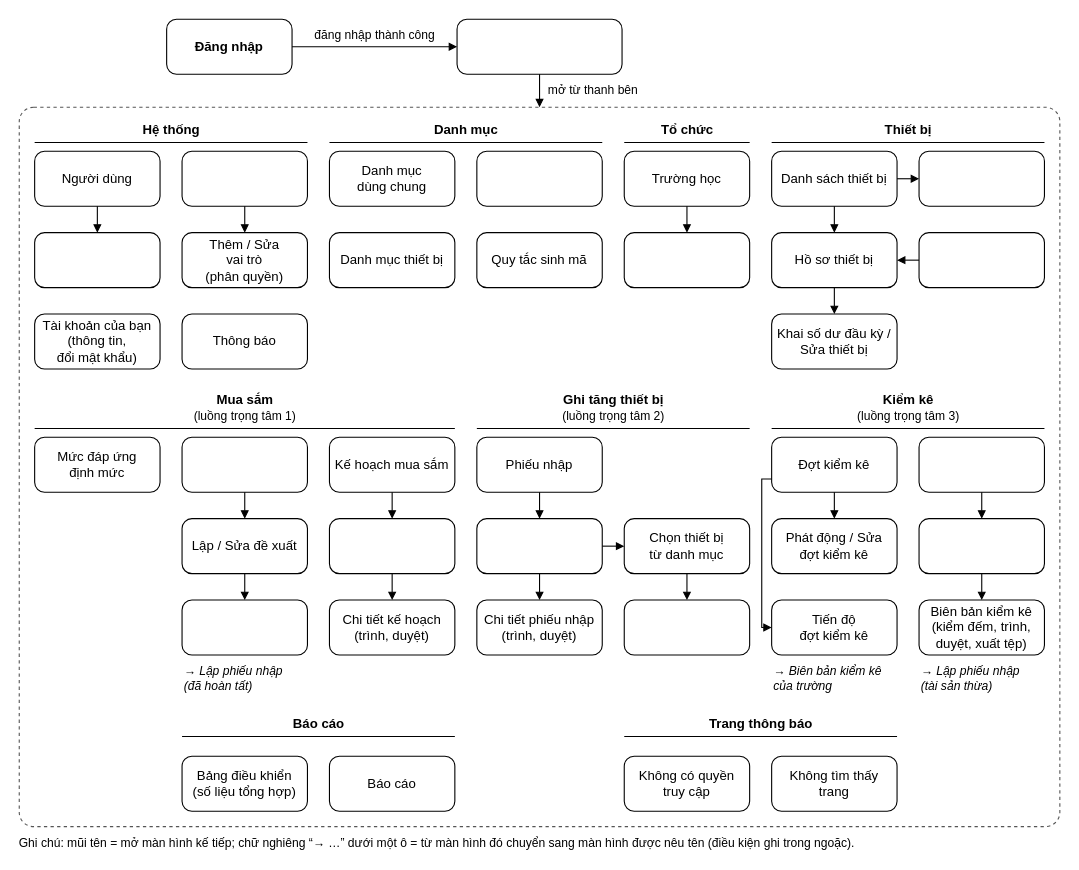
This 1079x870 diagram has some shape labels left out. The shapes that lost their labels are listed below. From the top down, each one's box as (x1, y1, x2, y2) in pixels, then its label:
(456, 18, 622, 74): Bảng điều khiển
(181, 150, 307, 206): Vai trò
(476, 150, 602, 206): Danh mục thiết bị dạy học tối thiểu
(918, 150, 1044, 206): Nhập thiết bị từ tệp
(34, 232, 160, 288): Thêm / Sửa người dùng
(623, 232, 750, 288): Phòng (của một trường)
(918, 232, 1044, 288): Tra cứu tài sản
(181, 436, 307, 492): Đề xuất mua sắm
(918, 436, 1044, 492): Phiếu kiểm kê
(328, 518, 455, 574): Lập / Sửa kế hoạch
(476, 518, 602, 574): Lập / Sửa phiếu nhập
(918, 518, 1044, 574): Lập / Sửa phiếu kiểm kê
(181, 599, 307, 655): Chi tiết đề xuất (trình, duyệt)
(623, 599, 750, 655): Chi tiết dòng phiếu nhập
